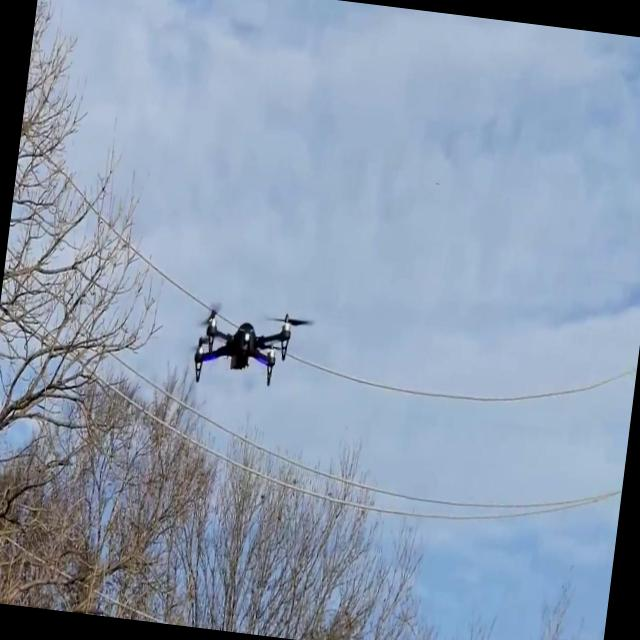drone: (185, 298, 302, 402)
